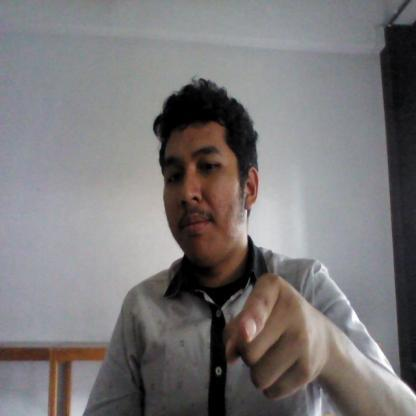Kamu: (214, 259, 348, 404)
